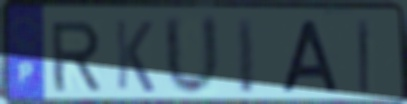A: (279, 18, 343, 96)
I: (234, 15, 257, 98), (355, 17, 372, 96)
K: (112, 17, 157, 95)
R: (47, 18, 103, 94)
U: (161, 13, 224, 100)
